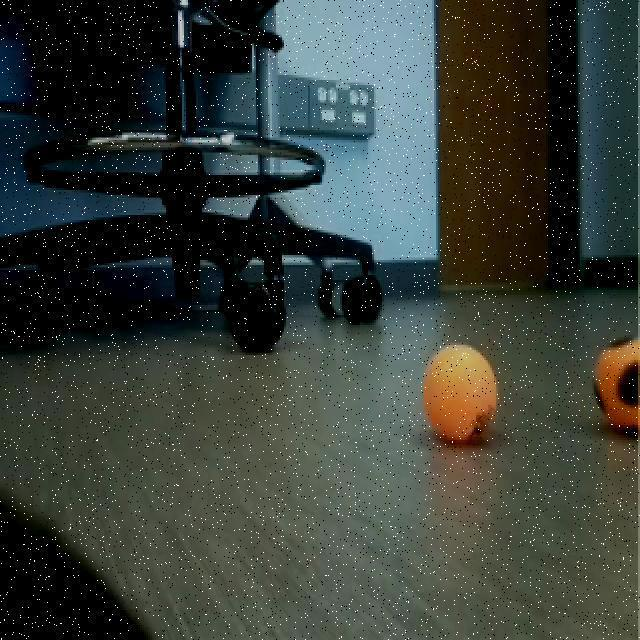ping-pong-ball: (417, 341, 508, 448), (585, 332, 640, 443)
